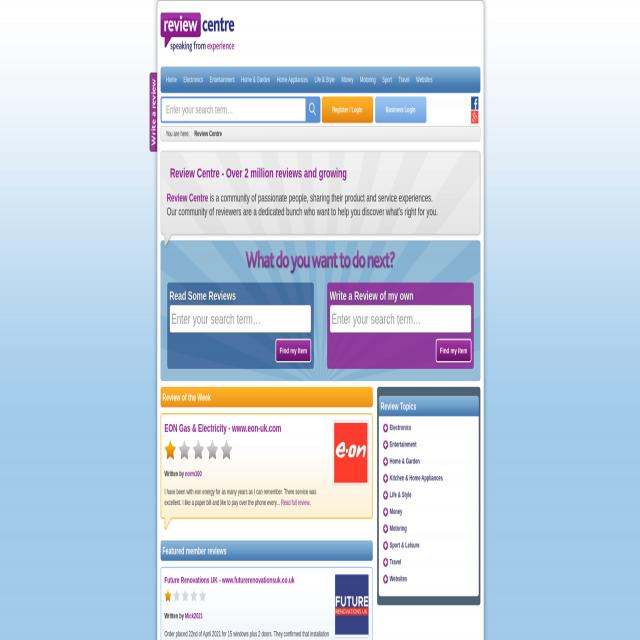button: (160, 13, 234, 60), (333, 420, 369, 486), (335, 575, 368, 635), (321, 97, 373, 123), (375, 97, 426, 123), (274, 67, 311, 91), (239, 67, 273, 92), (275, 339, 311, 362), (436, 339, 471, 362), (206, 68, 238, 92), (149, 72, 157, 152), (181, 67, 204, 92), (163, 66, 180, 92), (312, 72, 338, 88), (414, 71, 435, 89), (358, 72, 378, 89), (307, 97, 320, 122), (339, 71, 357, 88), (396, 71, 413, 89), (381, 72, 395, 89), (471, 111, 479, 124), (471, 97, 478, 110)
field: (169, 304, 311, 332), (330, 304, 471, 332), (160, 97, 306, 123)
